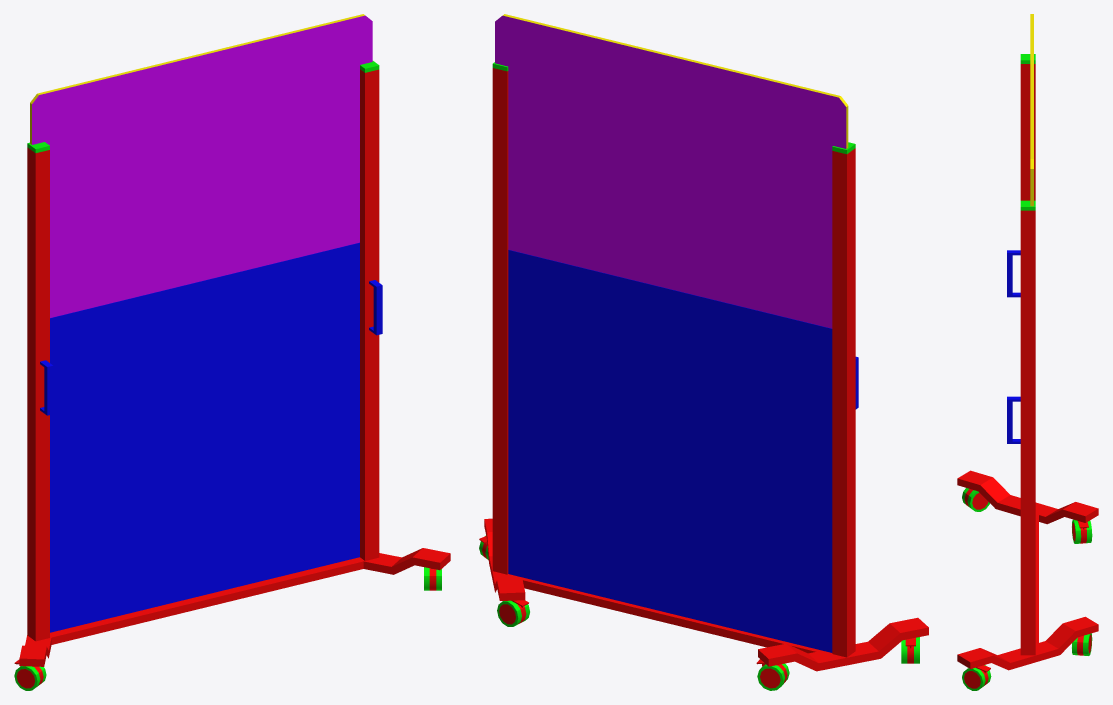
The model's file is Shield_Mobile.FBX.
3 views of the same model, side by side, from view 1: azimuth 30°, elevation 25°; view 2: azimuth 150°, elevation 25°; view 3: azimuth 270°, elevation 25° (orthographic). The views are drawn at different scales.
Parts seen in each view (by area): view 1: Mobile; view 2: Mobile; view 3: Mobile.
Boxes of the visible parts, x1=… form: Mobile: x1=14, y1=14, x2=450, y2=690; Mobile: x1=479, y1=14, x2=928, y2=690; Mobile: x1=957, y1=14, x2=1098, y2=690.
Bounding box in the file's own units: 60.21 × 74.94 × 18.71.
